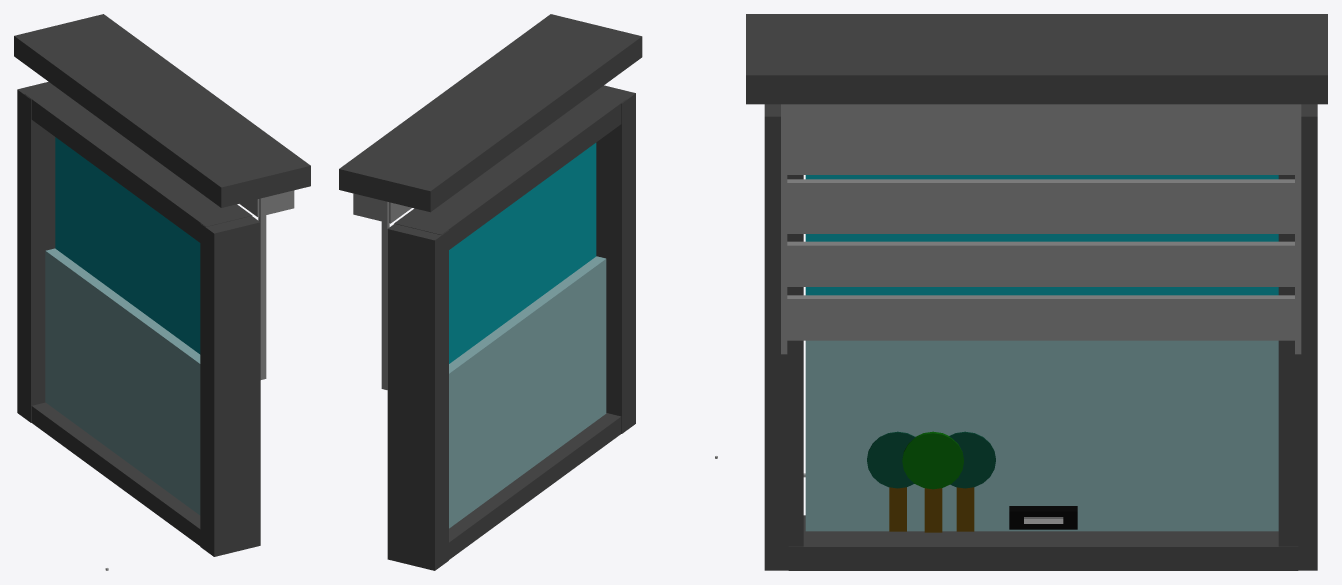
Rendered from Ventana.fbx.
The picture shows the model from 3 angles, left to right: view 1: azimuth 30°, elevation 25°; view 2: azimuth 150°, elevation 25°; view 3: azimuth 270°, elevation 25°; orthographic projection. The views are drawn at different scales.
Visible parts, largest first — view 1: pCube18; view 2: pCube18; view 3: pCube18.
Part boxes in pixels (left/top/right/bottom): pCube18: left=14, top=14, right=310, bottom=570; pCube18: left=339, top=14, right=717, bottom=570; pCube18: left=746, top=14, right=1327, bottom=570.
Size of the model in its own units: 96.14 by 187 by 188.
